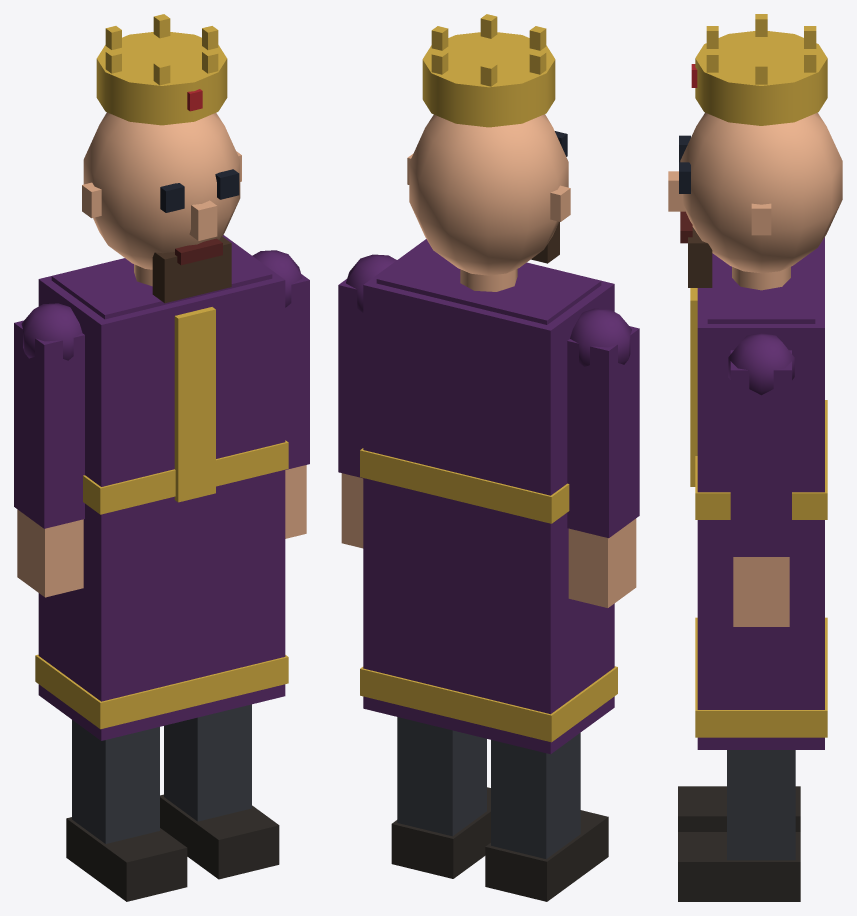
Rendered from emperor.glb.
3 renders of one model, left to right at view 1: azimuth 30°, elevation 25°; view 2: azimuth 150°, elevation 25°; view 3: azimuth 270°, elevation 25°, orthographic.
Visible parts, largest first — view 1: Body, Head, ArmR, LegR, LegL, Hat, ArmL, Mouth; view 2: Body, Head, ArmR, LegR, LegL, Hat, ArmL; view 3: Body, Head, ArmL, LegL, Hat, LegR.
Boxes of the visible parts, x1=… form: Body: x1=35, y1=235, x2=288, y2=740; Head: x1=82, y1=112, x2=241, y2=303; ArmR: x1=14, y1=303, x2=84, y2=597; LegR: x1=66, y1=720, x2=187, y2=901; LegL: x1=160, y1=704, x2=279, y2=879; Hat: x1=96, y1=14, x2=227, y2=125; ArmL: x1=252, y1=250, x2=309, y2=538; Mouth: x1=175, y1=238, x2=222, y2=265; Body: x1=360, y1=239, x2=617, y2=754; Head: x1=407, y1=114, x2=570, y2=275; ArmR: x1=567, y1=308, x2=639, y2=607; LegR: x1=485, y1=733, x2=608, y2=901; LegL: x1=391, y1=717, x2=490, y2=878; Hat: x1=422, y1=14, x2=555, y2=127; ArmL: x1=338, y1=254, x2=396, y2=548; Body: x1=690, y1=237, x2=827, y2=749; Head: x1=668, y1=112, x2=842, y2=287; ArmL: x1=728, y1=333, x2=794, y2=626; LegL: x1=678, y1=750, x2=800, y2=901; Hat: x1=691, y1=14, x2=827, y2=125; LegR: x1=678, y1=786, x2=800, y2=831.
Bounding box in the file's own units: 0.6556 × 1.86 × 0.3557.
